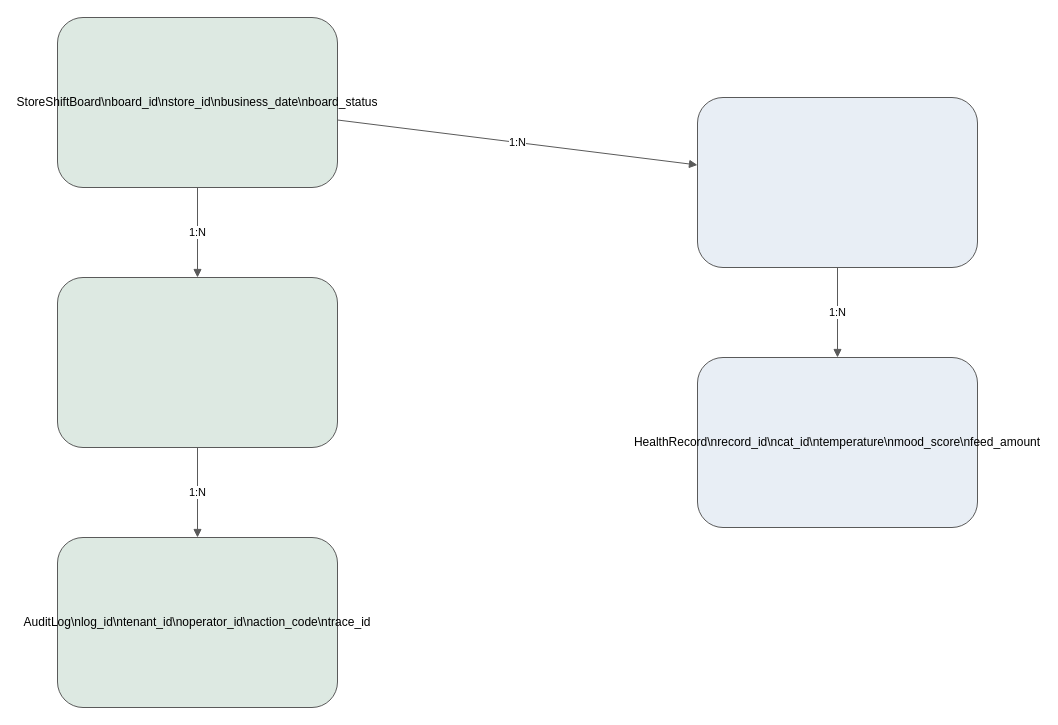
The diagram is 1058 pixels wide and 725 high, and some of its shapes have lost their labels. Each missing label, with the centre of its shape:
CatProfile\ncat_id\nstore_id\ncat_name\nhealth_level\ninteraction_mode: point 837,182
ShiftSchedule\nshift_id\nstore_id\nstaff_code\nstart_at\nend_at: point 197,362
